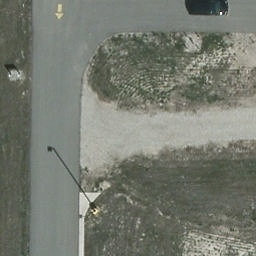car: (186, 0, 230, 17)
